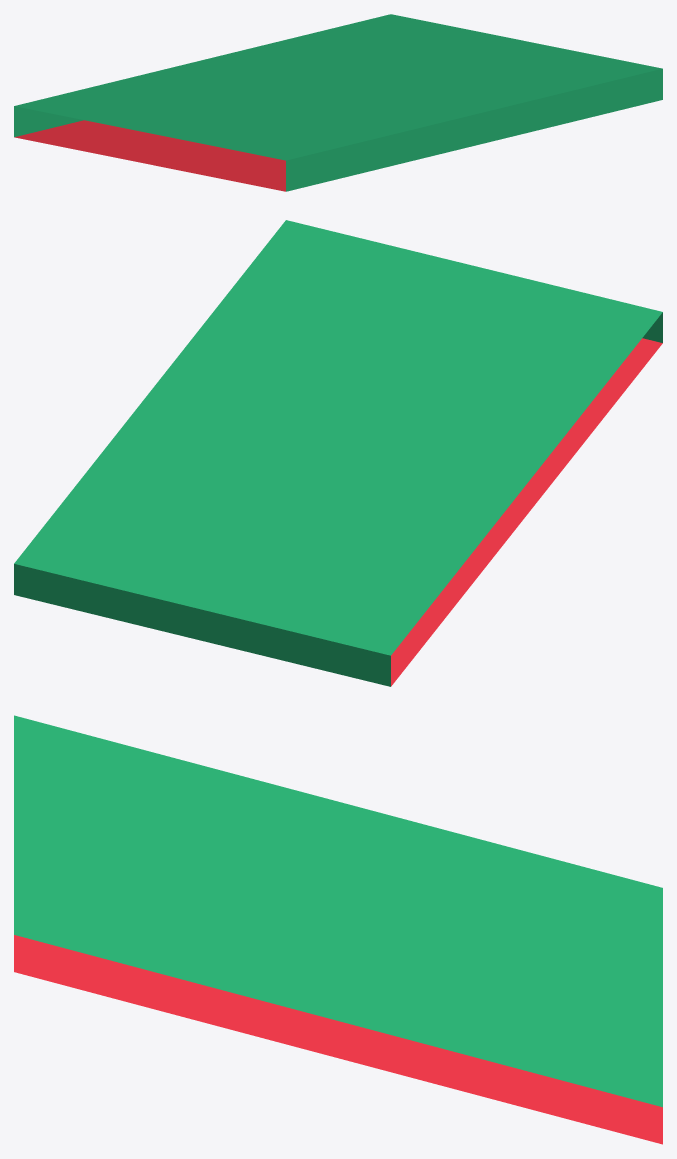
Rendered from ramp B base.FBX.
3 views of the same model, one above another, from view 1: azimuth 30°, elevation 25°; view 2: azimuth 150°, elevation 25°; view 3: azimuth 270°, elevation 25° (orthographic). The views are drawn at different scales.
Visible parts, largest first — view 1: rampB; view 2: rampB; view 3: rampB.
Part boxes in pixels (x1=…): rampB: x1=14, y1=14, x2=662, y2=191; rampB: x1=14, y1=220, x2=662, y2=686; rampB: x1=14, y1=715, x2=662, y2=1144.
Bounding box in the file's own units: 79.99 × 35.66 × 99.99.
